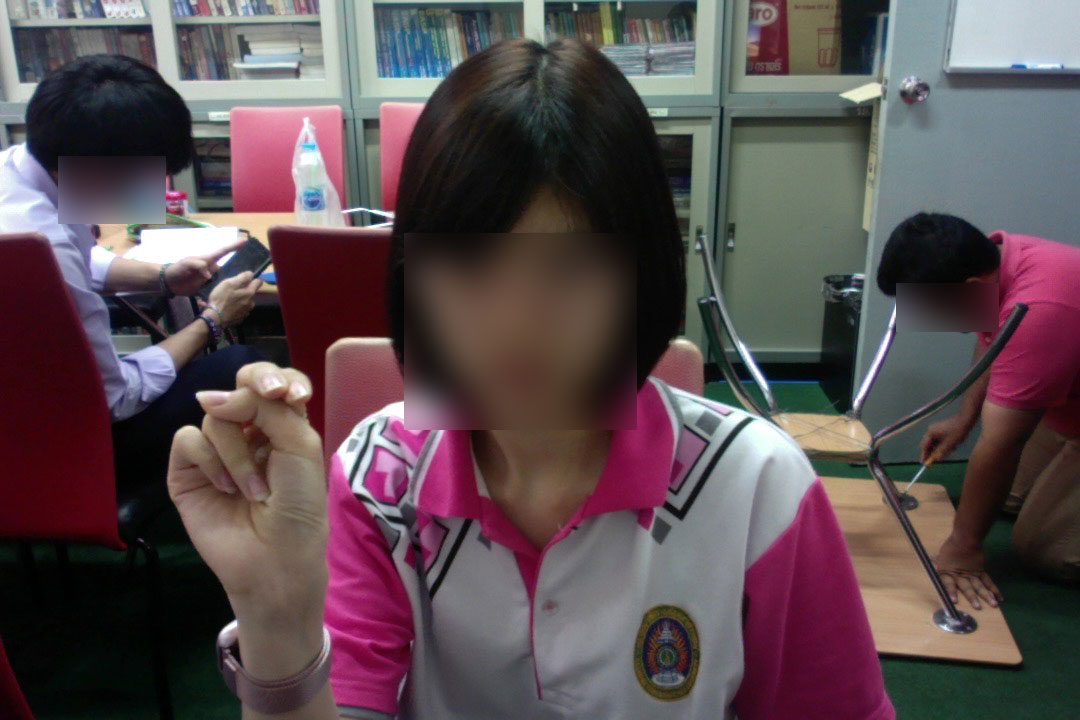nor: (157, 351, 337, 624)
